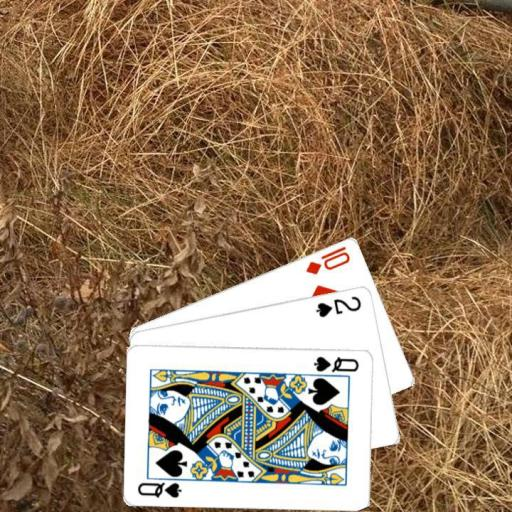10D: (303, 242, 352, 276)
2S: (313, 292, 363, 319)
QS: (311, 353, 361, 373), (135, 479, 184, 499)
